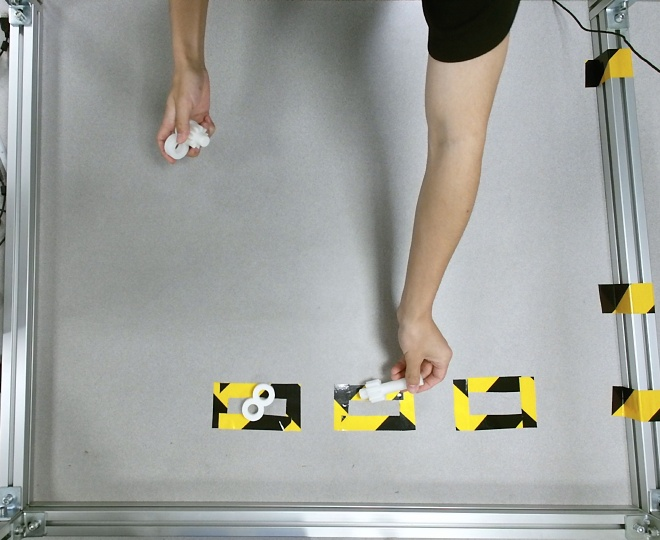stage_2: (163, 119, 209, 160)
